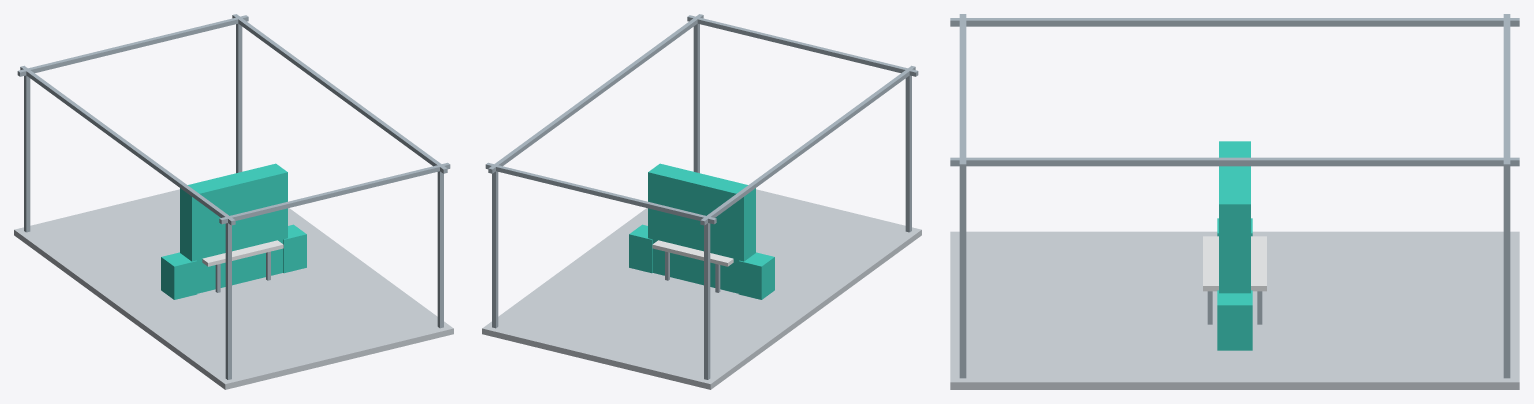
3 renders of one model, left to right at view 1: azimuth 30°, elevation 25°; view 2: azimuth 150°, elevation 25°; view 3: azimuth 270°, elevation 25°, orthographic. The views are drawn at different scales.
Visible parts, largest first — view 1: Exhibition Booth Concept; view 2: Exhibition Booth Concept; view 3: Exhibition Booth Concept.
Boxes of the visible parts, x1,y1,x2,y2 form: Exhibition Booth Concept: (14,14,453,389); Exhibition Booth Concept: (482,14,921,389); Exhibition Booth Concept: (950,14,1519,389).
Size of the model in its own units: 5 by 3.49 by 8.
